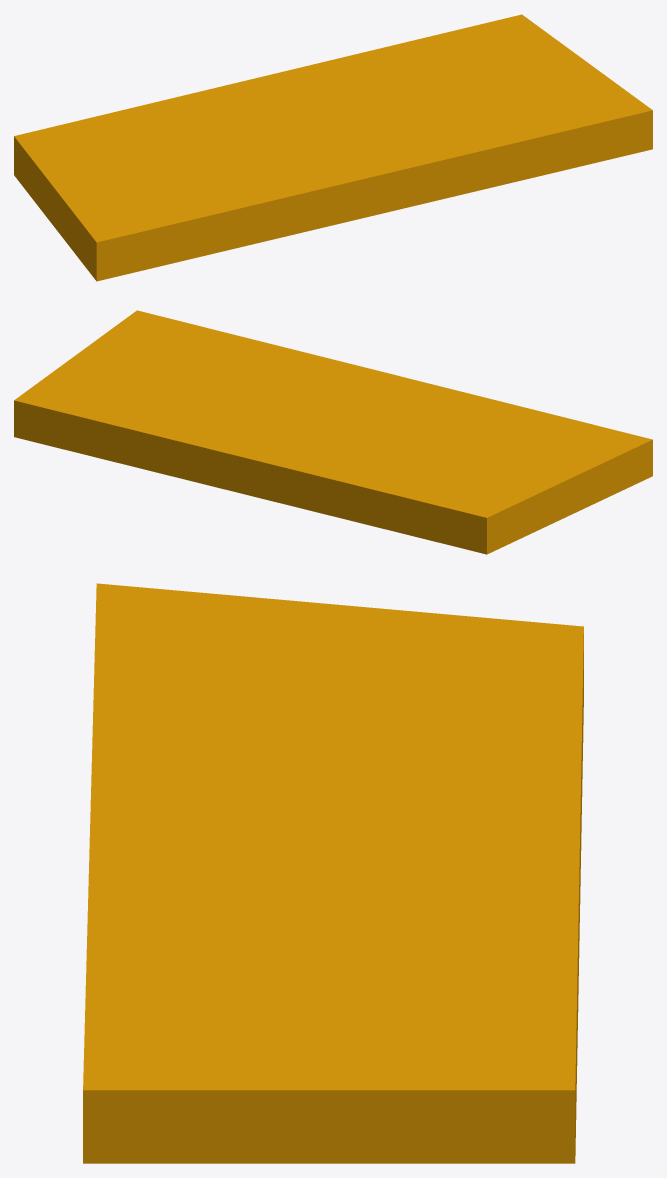
The model's file is Board_03_Small.fbx.
The picture shows the model from 3 angles, top to bottom: view 1: azimuth 30°, elevation 25°; view 2: azimuth 150°, elevation 25°; view 3: azimuth 270°, elevation 25°; orthographic projection. The views are drawn at different scales.
Parts seen in each view (by area): view 1: Board_03_Small; view 2: Board_03_Small; view 3: Board_03_Small.
Boxes of the visible parts, bbox=[...] form: Board_03_Small: bbox=[14, 14, 652, 281]; Board_03_Small: bbox=[14, 310, 652, 554]; Board_03_Small: bbox=[83, 583, 583, 1163].
Bounding box in the file's own units: 46.51 × 3.14 × 19.43.
